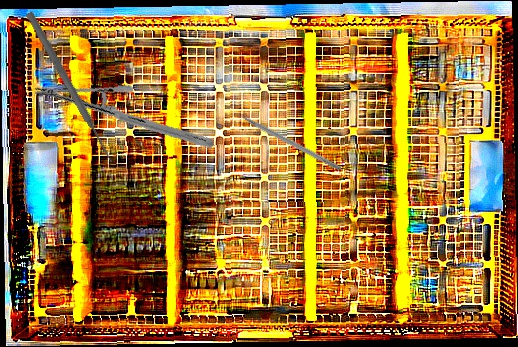Hook Surgical: (225, 105, 343, 172)
Needle Holder: (33, 52, 215, 182)
Pusher: (23, 10, 117, 165)
